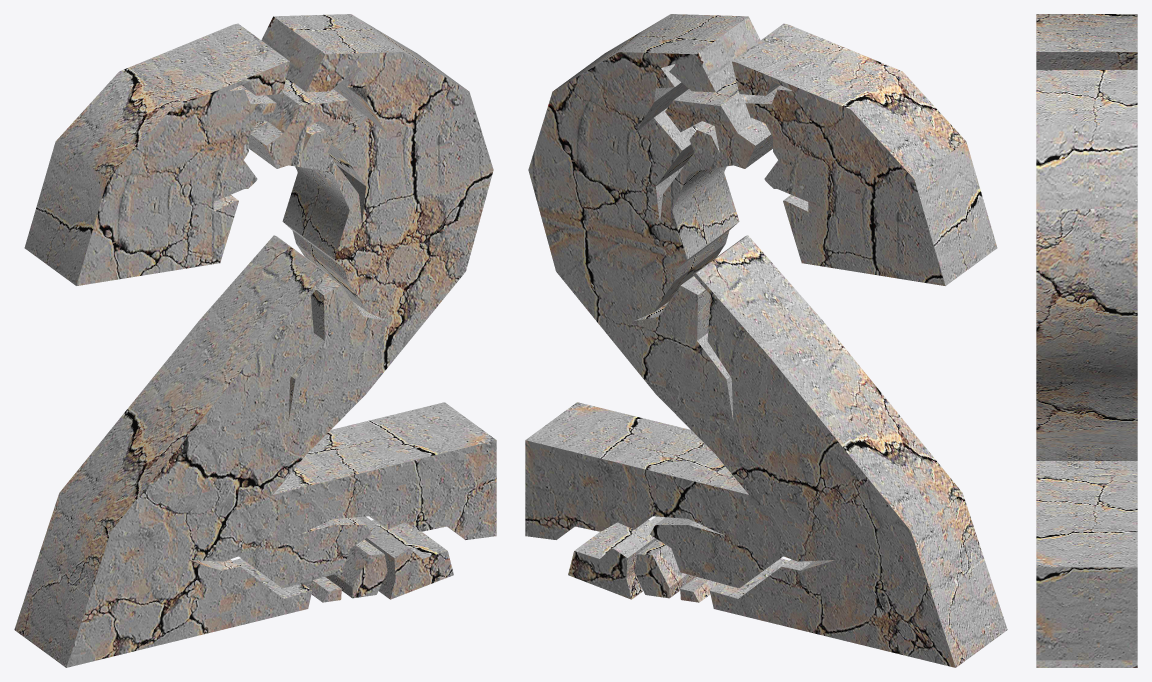
3 views of the same model, side by side, from view 1: azimuth 30°, elevation 25°; view 2: azimuth 150°, elevation 25°; view 3: azimuth 270°, elevation 25° (orthographic). The views are drawn at different scales.
Parts seen in each view (by area): view 1: 2; view 2: 2; view 3: 2.
Part boxes in pixels (x1,y1,x2,y2): 2: [14, 14, 496, 667]; 2: [525, 14, 1007, 667]; 2: [1036, 14, 1137, 667].
Bounding box in the file's own units: 71.74 × 89.62 × 15.
Materials: 1 (1 with a texture image).
